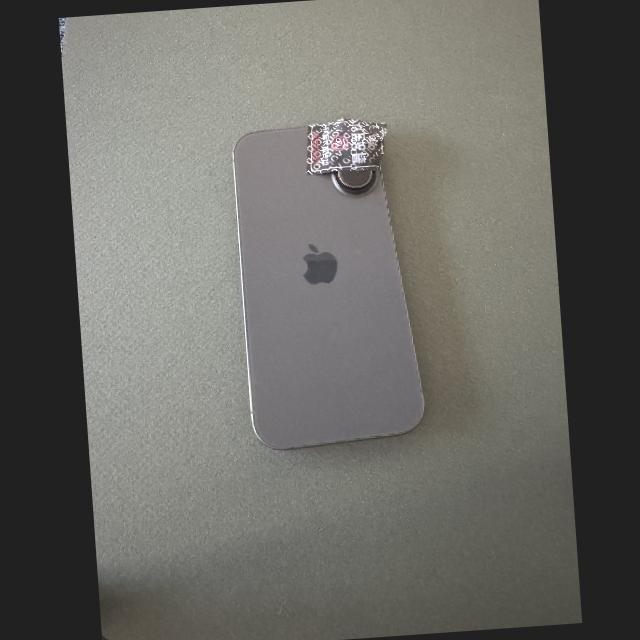lens: (337, 170, 371, 186)
phone: (232, 123, 424, 451)
sticker: (305, 117, 388, 176)
